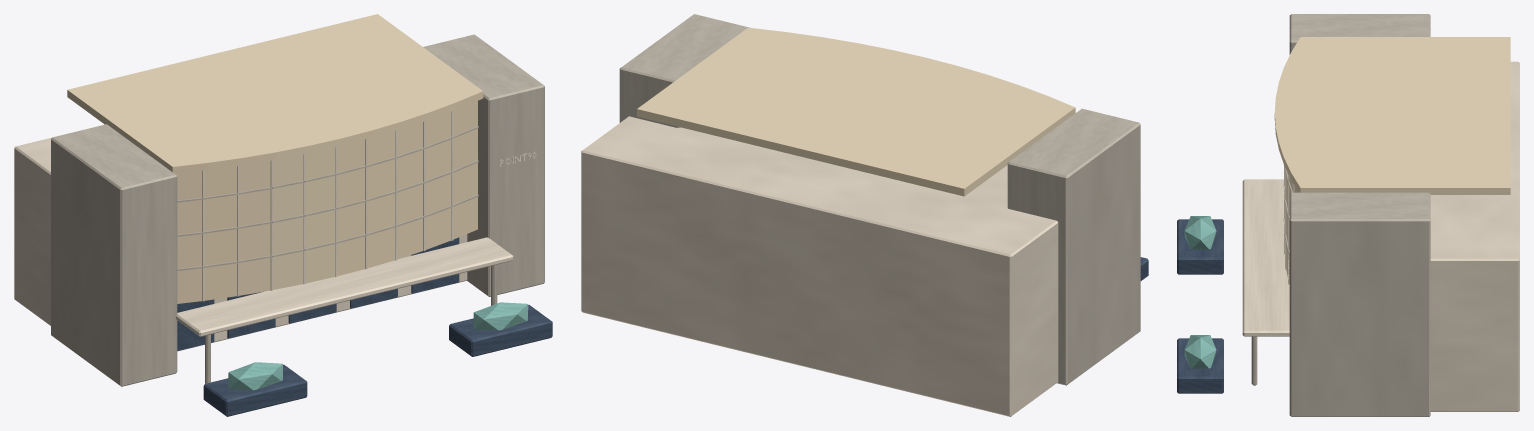
The model's file is point-90.glb.
3 renders of one model, left to right at view 1: azimuth 30°, elevation 25°; view 2: azimuth 150°, elevation 25°; view 3: azimuth 270°, elevation 25°, orthographic. The views are drawn at different scales.
Parts seen in each view (by area): view 1: point-90; view 2: point-90; view 3: point-90.
Part boxes in pixels (x1,y1,x2,y2): point-90: (14,14,552,416); point-90: (581,14,1148,416); point-90: (1177,14,1519,416).
Bounding box in the file's own units: 10.4 × 4.77 × 7.3.
1 material, 1 textured.
